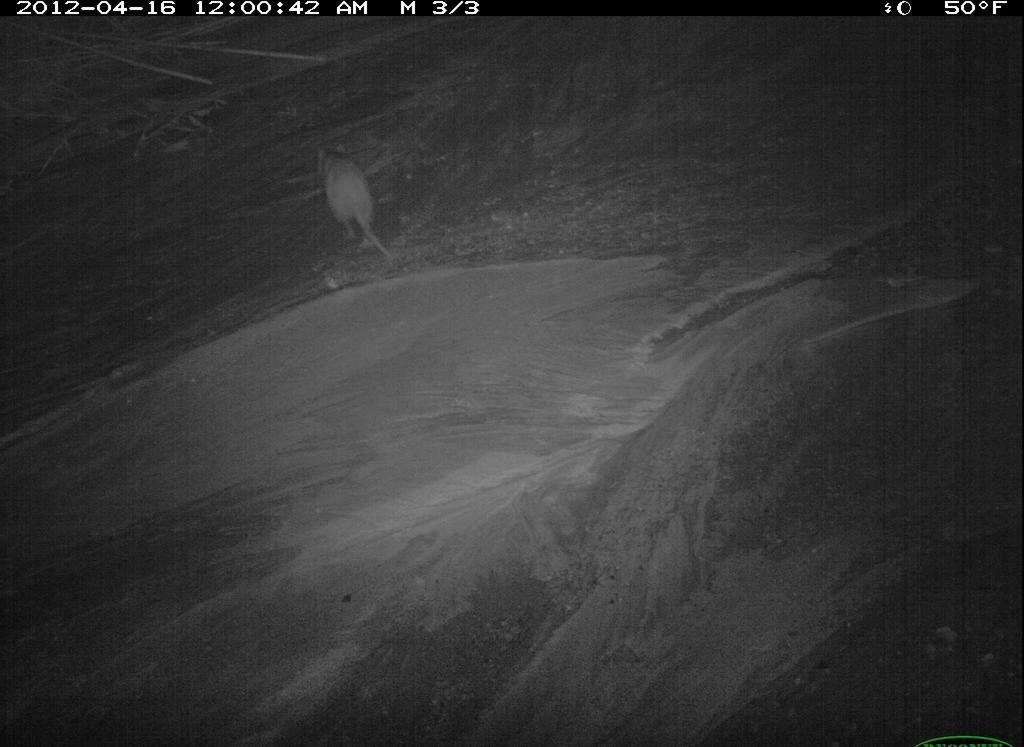opossum: (625, 282, 794, 533)
